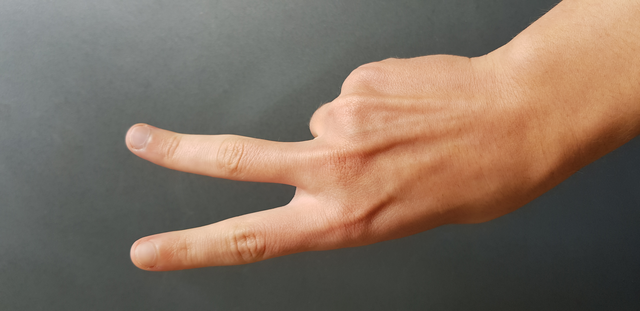Scissors: (90, 42, 544, 285)
